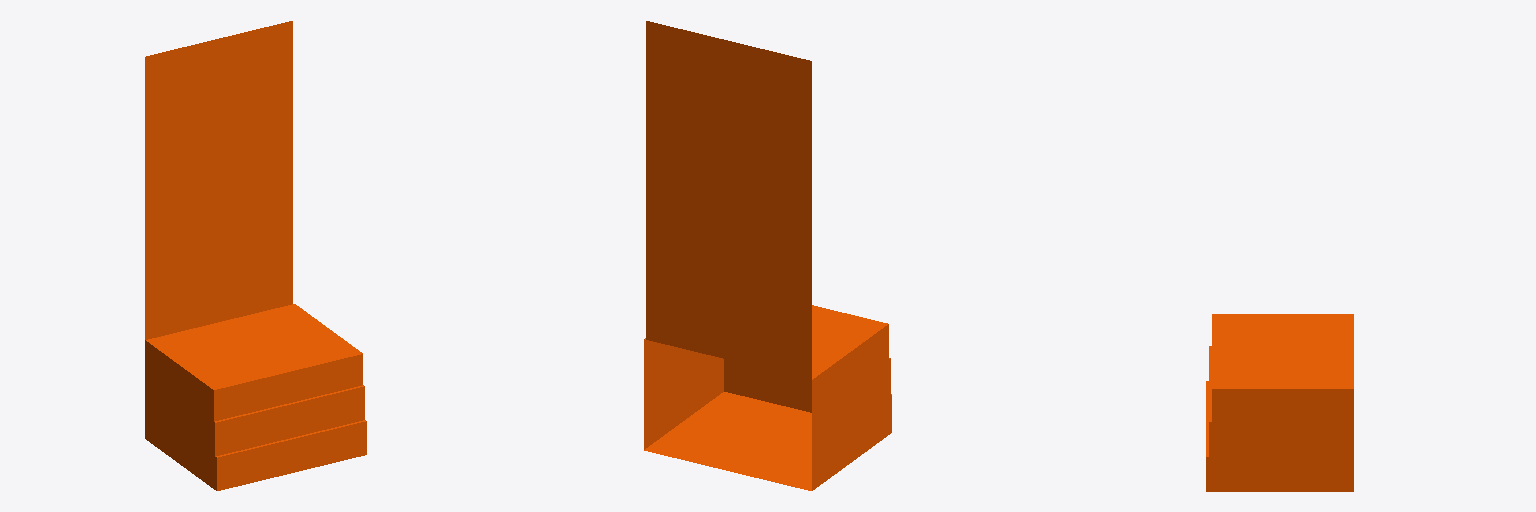
URDF robot description (DresserWithMirror_51feed1c1b21444828b4c5ec471dc963):
<?xml version="1.0" ?>
<robot name="DresserWithMirror_51feed1c1b21444828b4c5ec471dc963">
   <material name="obj_color">
      <color rgba="1.0 0.423529411765 0.0392156862745 1.0"/>
   </material>
   <link name="top">
      <inertial>
         <origin rpy="8.699851346656826e-05 0.0002700665383209208 0.0003025252829187169" xyz="-0.0008621041314657541 0.0005554460459120783 0.00766656976636573"/>
         <mass value="0.2223964684892326"/>
         <inertia ixx="0.0002700646955924302" ixy="1.050017139815577e-07" ixz="5.714228750398646e-07" iyy="0.0002947284651019626" iyz="-4.024447803579299e-05" izz="9.479717401181301e-05"/>
      </inertial>
      <visual>
         <origin rpy="0 0 0" xyz="0 0 0"/>
         <geometry>
            <mesh filename="top_watertight_tiny.stl" scale="1 1 1"/>
         </geometry>
         <material name="obj_color"/>
      </visual>
      <collision>
         <origin rpy="0 0 0" xyz="0 0 0"/>
         <geometry>
            <mesh filename="top_watertight_tiny.obj" scale="1 1 1"/>
         </geometry>
      </collision>
   </link>
   <link name="bottom">
      <inertial>
         <origin rpy="1.633333333199431e-08 1.633333333199431e-08 1.633333333362855e-08" xyz="0.3464080000000008 0.3464080000000008 0.3464080000000008"/>
         <mass value="0.0009800000000000017"/>
         <inertia ixx="1.633333333253906e-08" ixy="5.447480642029219e-19" ixz="5.447480642029219e-19" iyy="1.633333333253906e-08" iyz="5.447480642029219e-19" izz="1.633333333253906e-08"/>
      </inertial>
      <visual>
         <origin rpy="0 0 0" xyz="0 0 0"/>
         <geometry>
            <mesh filename="bottom_watertight_tiny.stl" scale="1 1 1"/>
         </geometry>
         <material name="obj_color"/>
      </visual>
   </link>
   <joint name="rotation" type="revolute">
      <origin xyz="0 0 0"/>
      <axis xyz="0 0 -1"/>
      <parent link="bottom"/>
      <child link="top"/>
      <dynamics damping="1.0" friction="1.0"/>
      <limit effort="0.1" velocity="0.1" lower="0" upper="0.001"/>
   </joint>
</robot>

--- Facts derived from the render (not from the file) ---
Views: 3 orthographic renders of the robot side by side, from view 1: azimuth 30°, elevation 25°; view 2: azimuth 150°, elevation 25°; view 3: azimuth 270°, elevation 25°.
Model DresserWithMirror_51feed1c1b21444828b4c5ec471dc963 with 2 links and 1 joints (1 revolute), rooted at bottom, posed every joint at zero.
Links seen in each view (by area): view 1: top; view 2: top; view 3: top.
Link boxes in pixels (x1,y1,x2,y2): top: (145,21,366,490); top: (644,21,891,490); top: (1206,314,1353,491).
Bounding box of the posed robot: 0.0569 × 0.0471 × 0.1391 m (x, y, z).
Meshes: 2 distinct files referenced, 1 mesh visuals loaded (1 binary STL); not drawn: 1 (reference not matched to a file when rendering).
